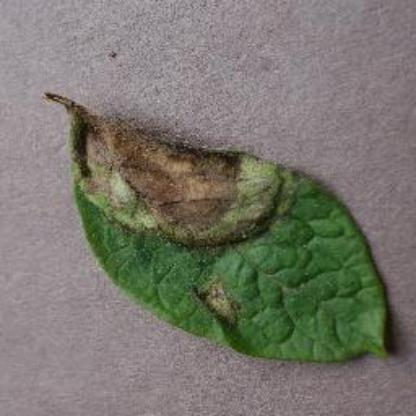Late-Blight: (31, 70, 402, 396)
